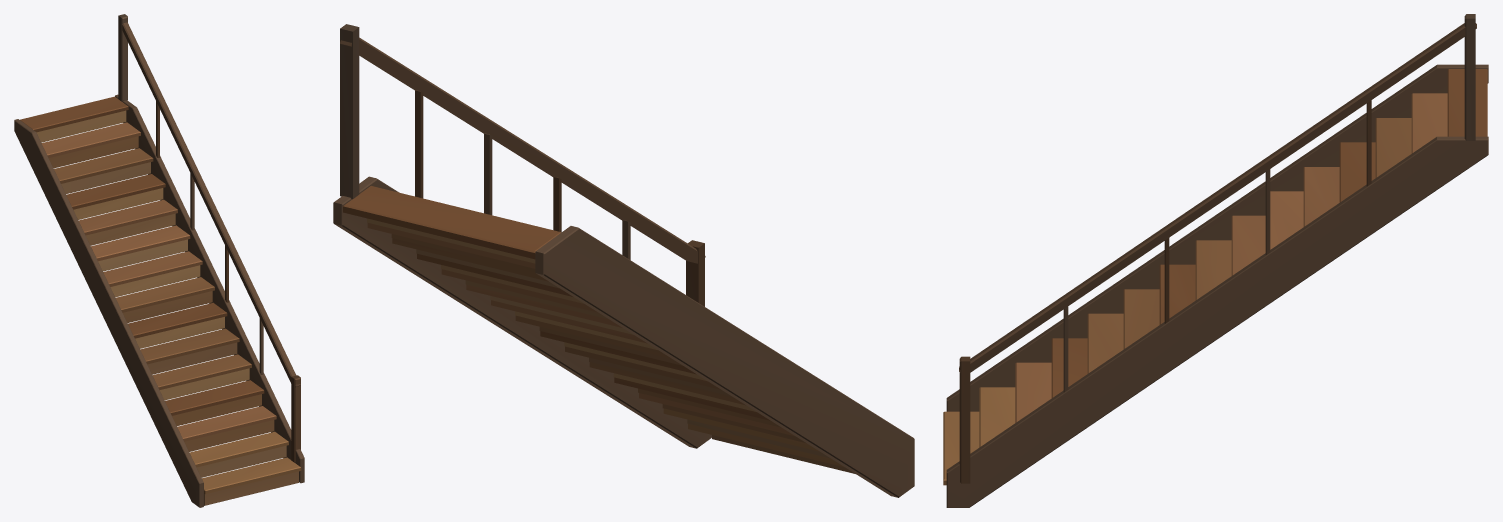
Rendered from wood_stairs_01.glb.
3 renders of one model, left to right at view 1: azimuth 30°, elevation 25°; view 2: azimuth 150°, elevation 25°; view 3: azimuth 270°, elevation 25°, orthographic. The views are drawn at different scales.
Parts seen in each view (by area): view 1: wood_stairs_01_body; view 2: wood_stairs_01_body; view 3: wood_stairs_01_body.
Part boxes in pixels (<box>): wood_stairs_01_body: <box>14,14,304,507</box>; wood_stairs_01_body: <box>333,24,914,497</box>; wood_stairs_01_body: <box>943,14,1488,507</box>.
Bounding box in the file's own units: 1.33 × 4.01 × 4.04.
